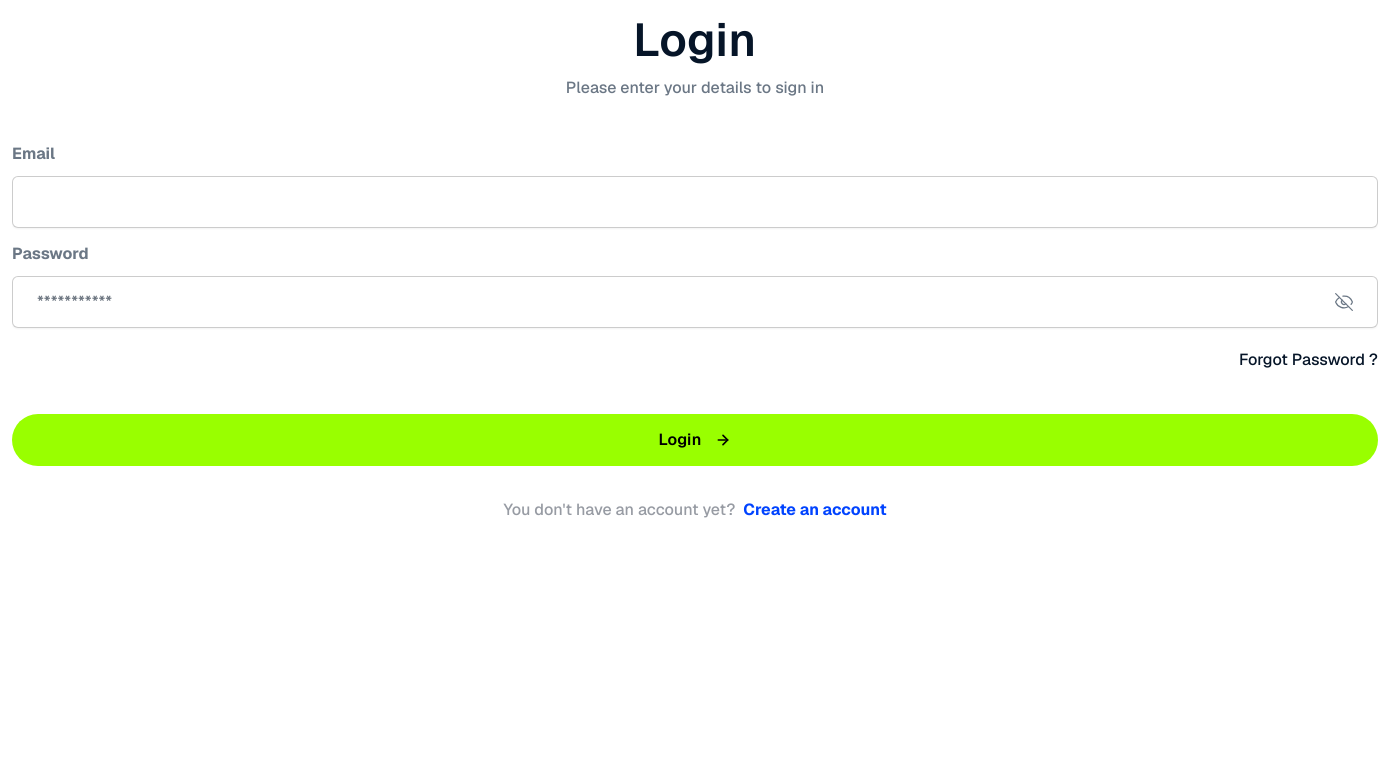
LoginForm › Validation › should show email validation error for invalid email
Type "invalid-email" into the field labelled "Email" at (695, 202), box [12,176,1378,228]
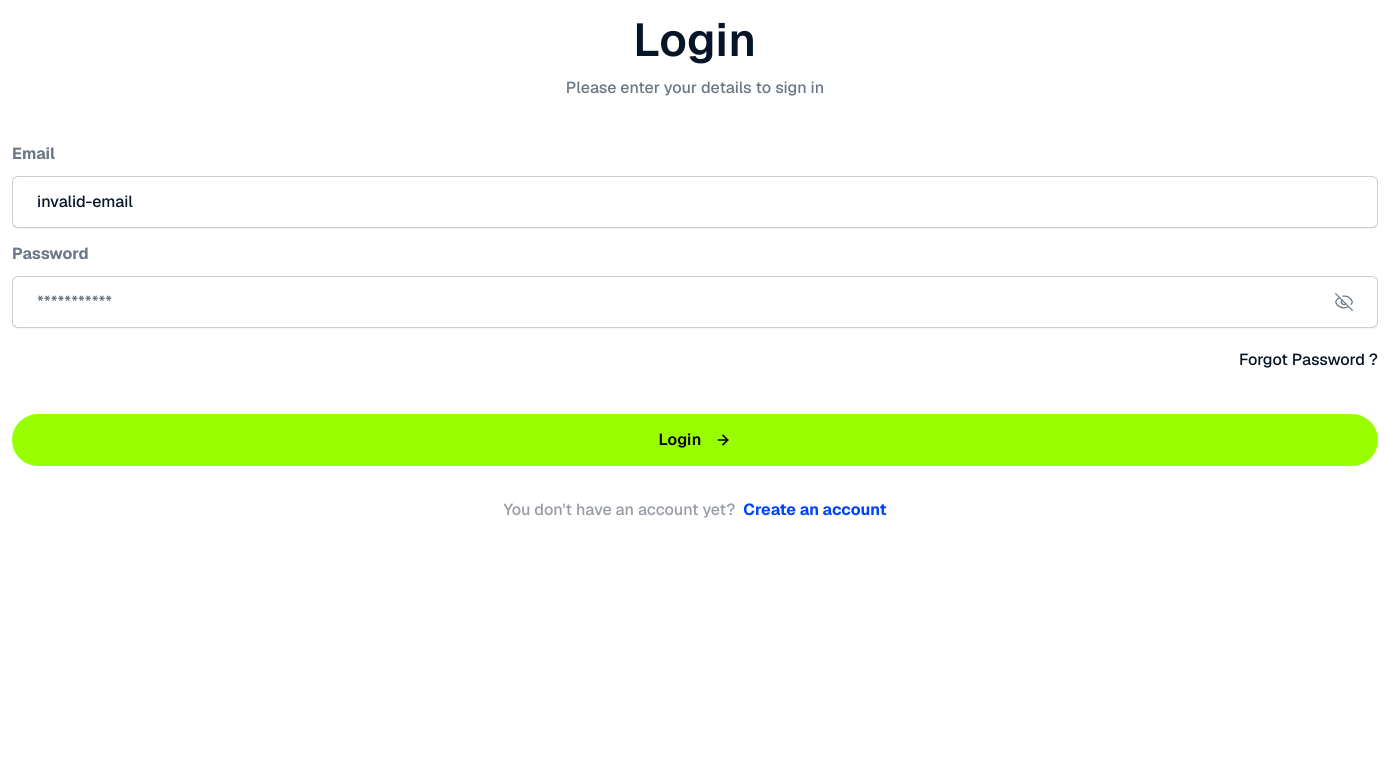
Type "password123" into the password field labelled "Password" at (695, 302), box [12,276,1378,328]
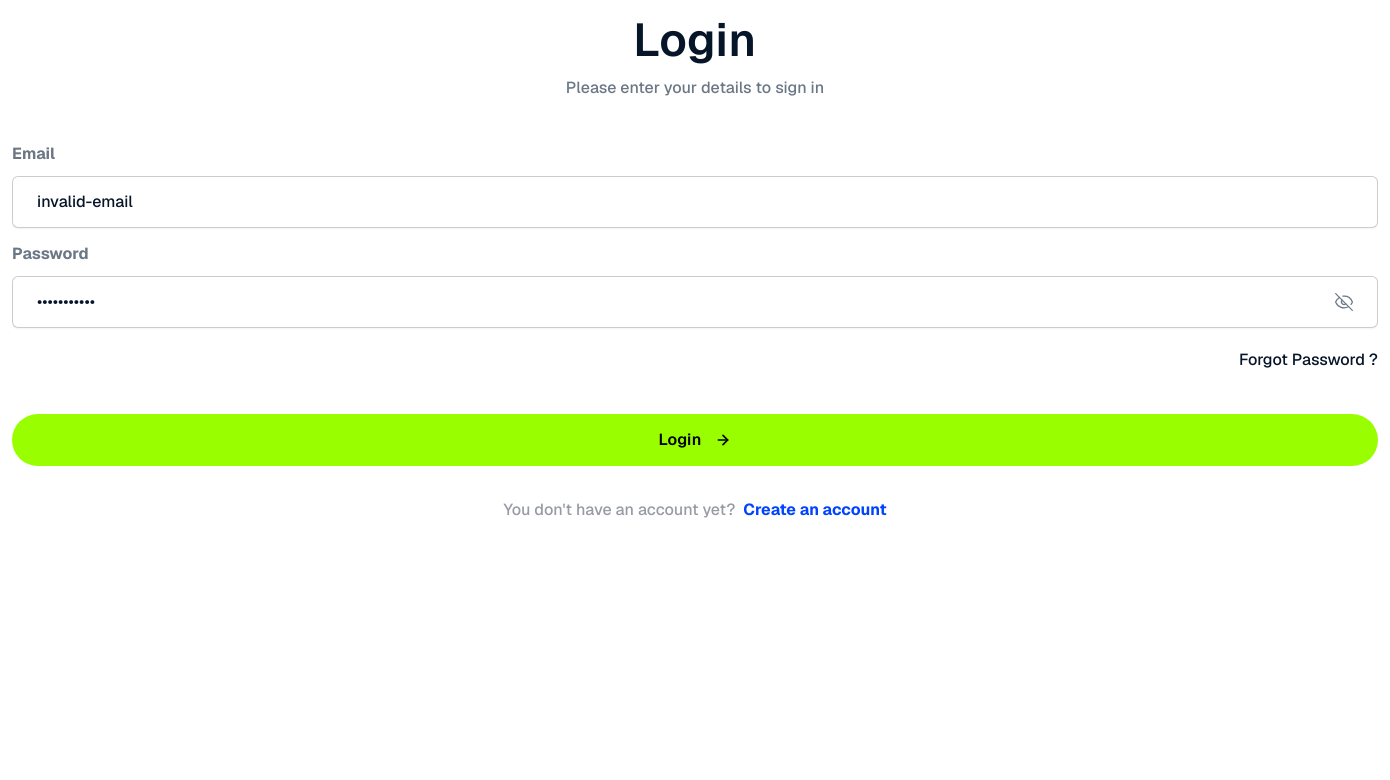
Submit the form "Email Password Forgot Password ? Login", box [12,146,1378,466]
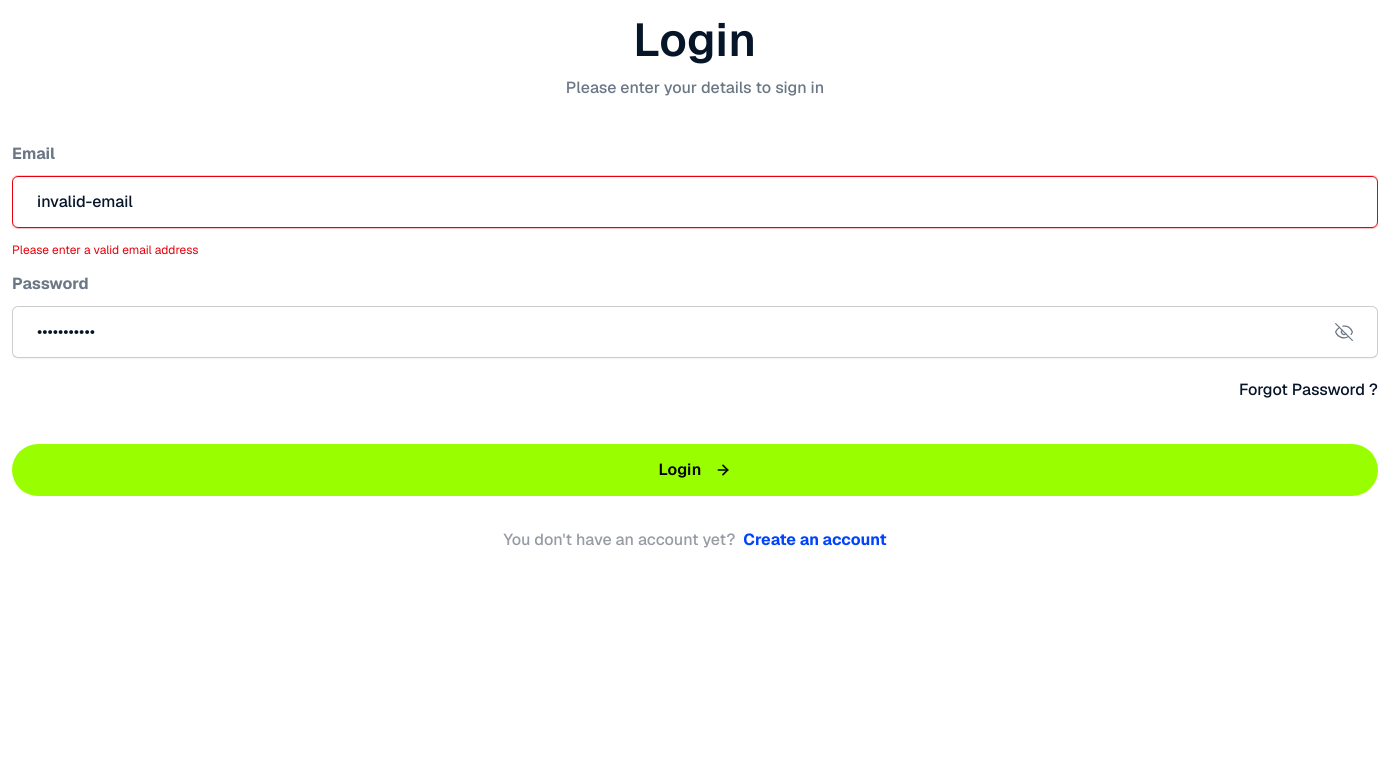
Check: the text "Please enter a valid email address" is shown, box [12,242,199,258]
